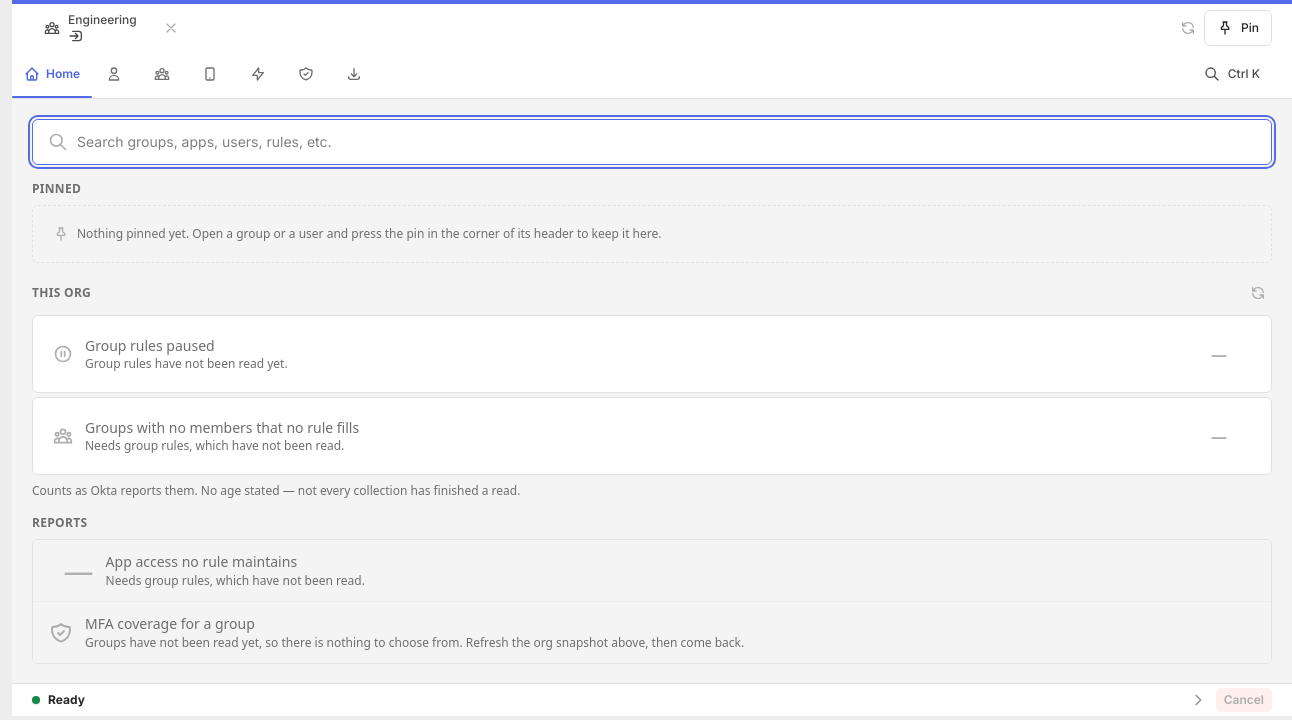
Scenario: App context engine › keeps detecting while pinned, and names where the live tab went
Check: the text "Engineering" is shown, box [68, 12, 137, 27]
What coordinates should you click on to do the following:
click the button "Pin"
I would click on:
 (1238, 28)
Its box is [1204, 10, 1272, 46].
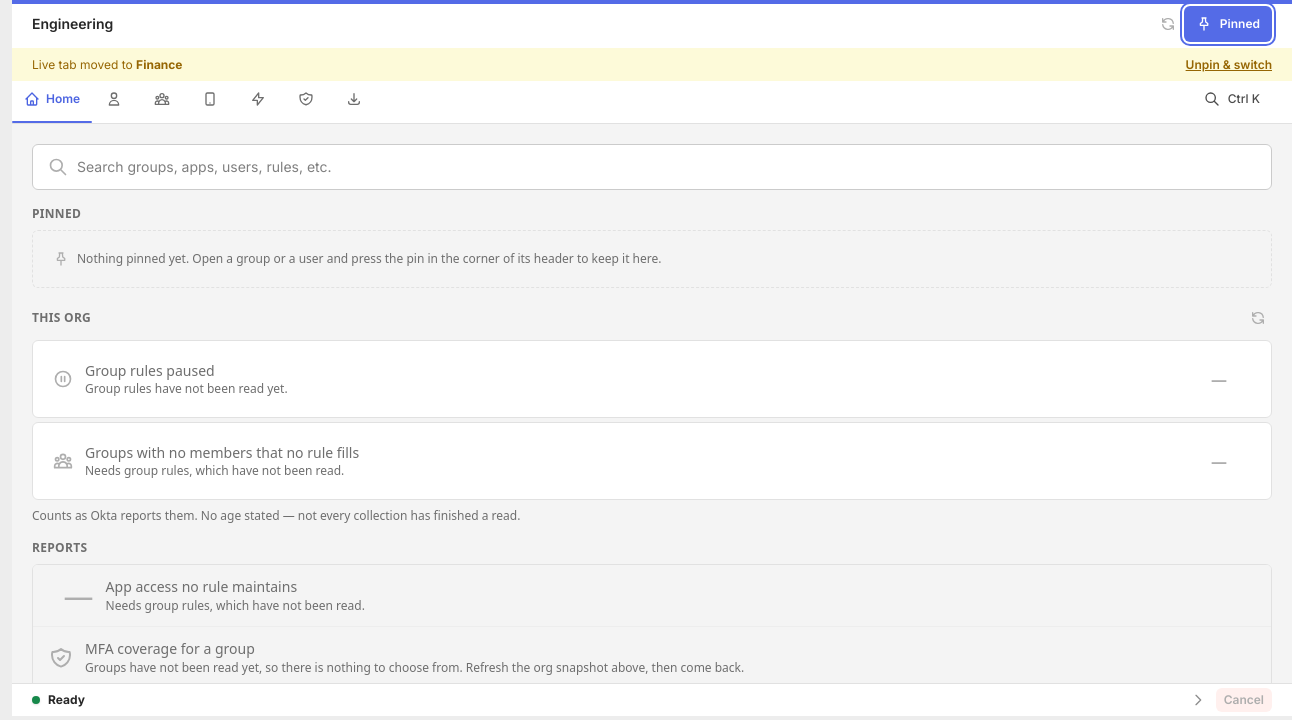
Check: the button "Pinned" is shown, box [1184, 6, 1272, 42]
Check: the text "Finance" is shown, box [136, 57, 182, 72]
Check: the text "Live tab moved to Finance" is shown, box [32, 57, 182, 73]
